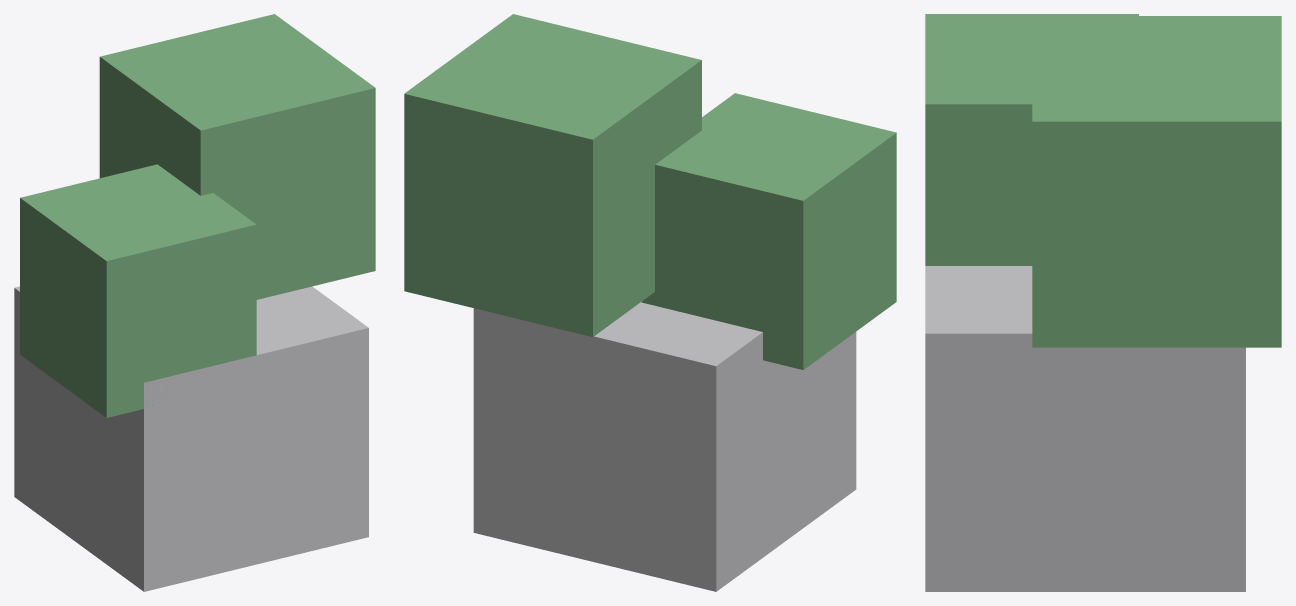
The model's file is plantSmall2.glb.
3 renders of one model, left to right at view 1: azimuth 30°, elevation 25°; view 2: azimuth 150°, elevation 25°; view 3: azimuth 270°, elevation 25°, orthographic. The views are drawn at different scales.
Size of the model in its own units: 0.25 by 0.31 by 0.2.
